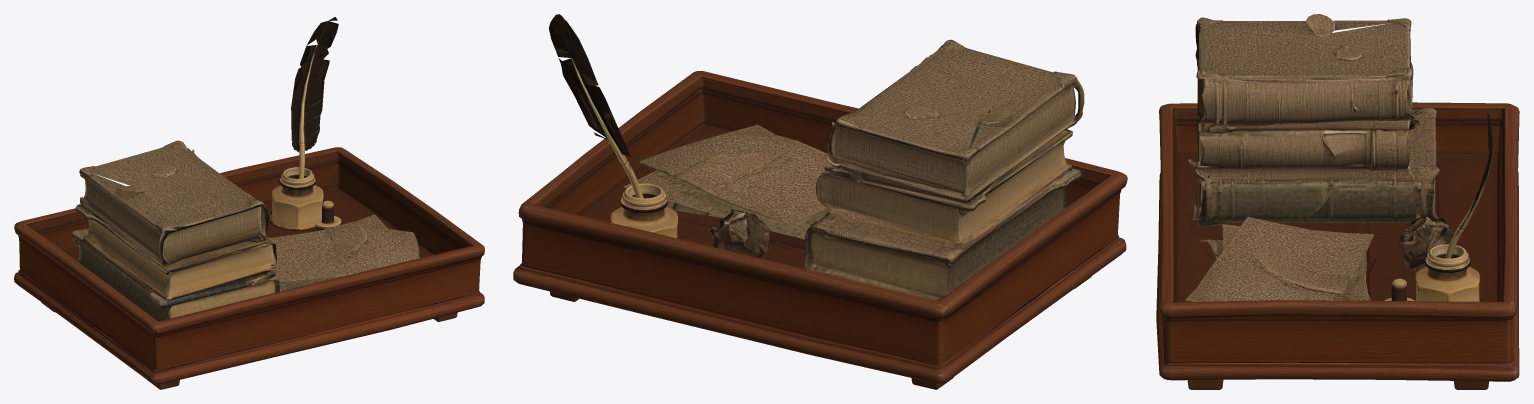
File: writing-station.glb
3 views of the same model, side by side, from view 1: azimuth 30°, elevation 25°; view 2: azimuth 150°, elevation 25°; view 3: azimuth 270°, elevation 25° (orthographic). The views are drawn at different scales.
Parts seen in each view (by area): view 1: tripo_7717c0a7_5310_4873_bf37_4d877271873c; view 2: tripo_7717c0a7_5310_4873_bf37_4d877271873c; view 3: tripo_7717c0a7_5310_4873_bf37_4d877271873c.
Boxes of the visible parts, x1,y1,x2,y2 form: tripo_7717c0a7_5310_4873_bf37_4d877271873c: (14, 17, 484, 389); tripo_7717c0a7_5310_4873_bf37_4d877271873c: (513, 14, 1127, 389); tripo_7717c0a7_5310_4873_bf37_4d877271873c: (1156, 14, 1519, 389).
Bounding box in the file's own units: 0.9995 × 0.6265 × 0.7515.
Materials: 1 (1 with a texture image).
